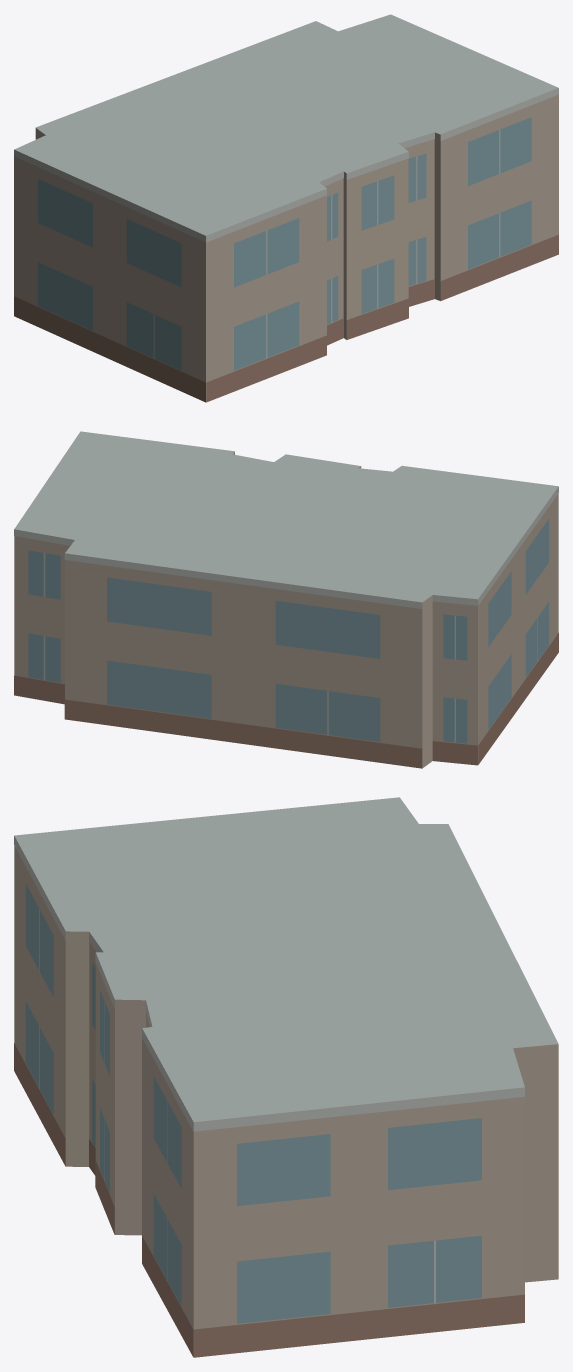
The model's file is survey-upis-32623852.glb.
The picture shows the model from 3 angles, top to bottom: view 1: azimuth 30°, elevation 25°; view 2: azimuth 150°, elevation 25°; view 3: azimuth 270°, elevation 25°; orthographic projection. The views are drawn at different scales.
Parts seen in each view (by area): view 1: survey-upis-32623852.tmp; view 2: survey-upis-32623852.tmp; view 3: survey-upis-32623852.tmp.
Part boxes in pixels (x1=…): survey-upis-32623852.tmp: x1=14, y1=14, x2=558, y2=402; survey-upis-32623852.tmp: x1=14, y1=431, x2=558, y2=768; survey-upis-32623852.tmp: x1=14, y1=797, x2=558, y2=1357.
Bounding box in the file's own units: 18.09 × 6.1 × 12.81.
